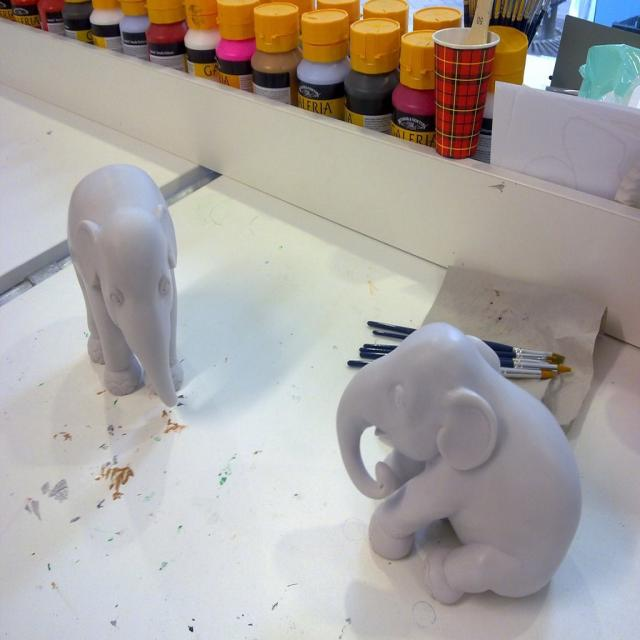elephant: (329, 325, 594, 618), (68, 161, 184, 402)
